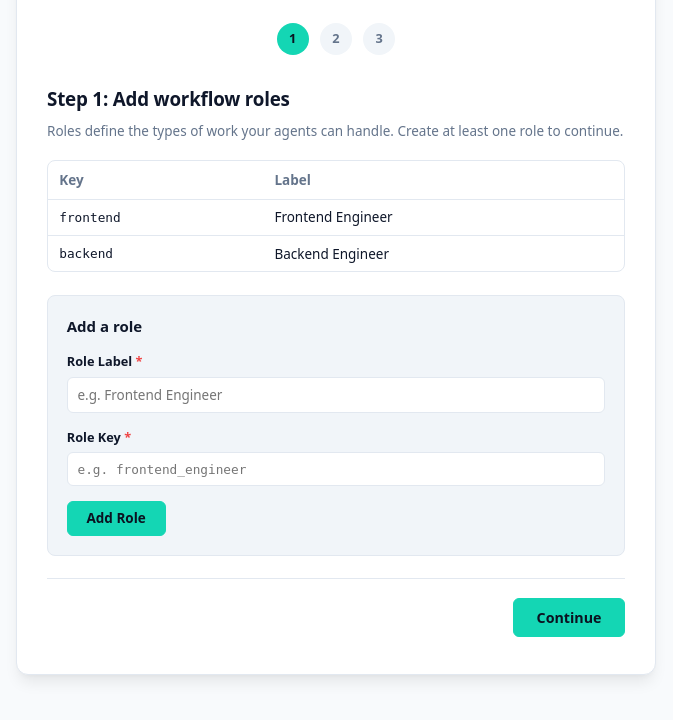
Test: OnboardingPage › step 2 — agents › shows validation error when agent label is empty
(page scrolled)
Click the button "Continue" at (569, 617), box [513,598,625,637]
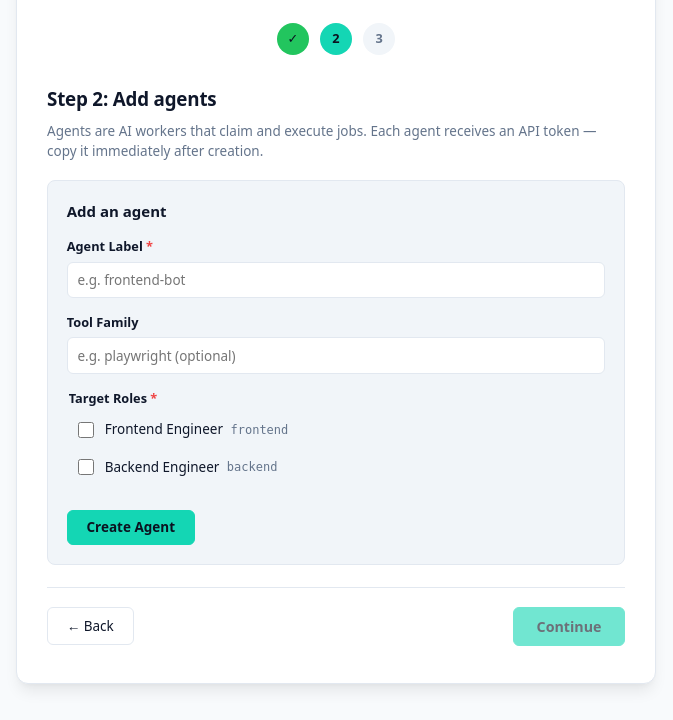
Expected: the heading "Step 2: Add agents" is shown, [47,86,216,111]
Click the button "Create Agent" at (131, 527), box [67,510,195,545]
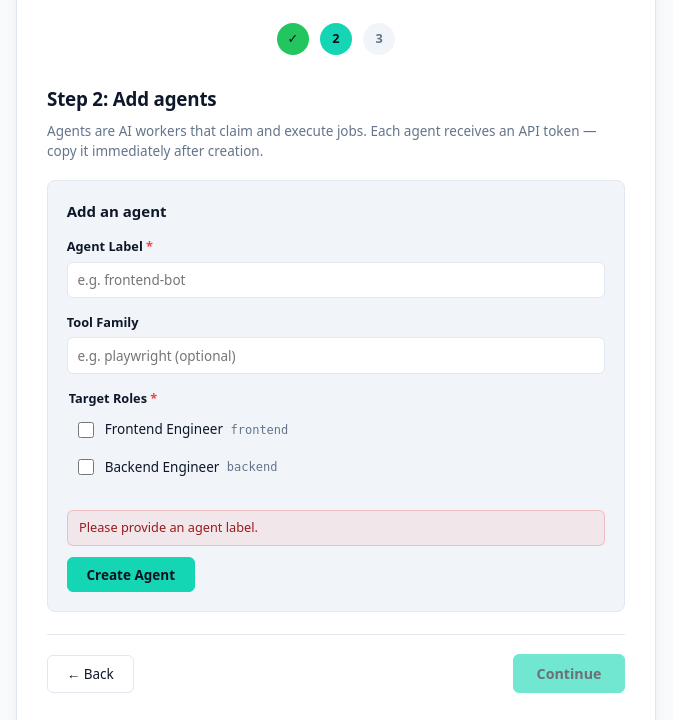
Expected: the text "Please provide an agent label." is shown, [67,510,605,546]
